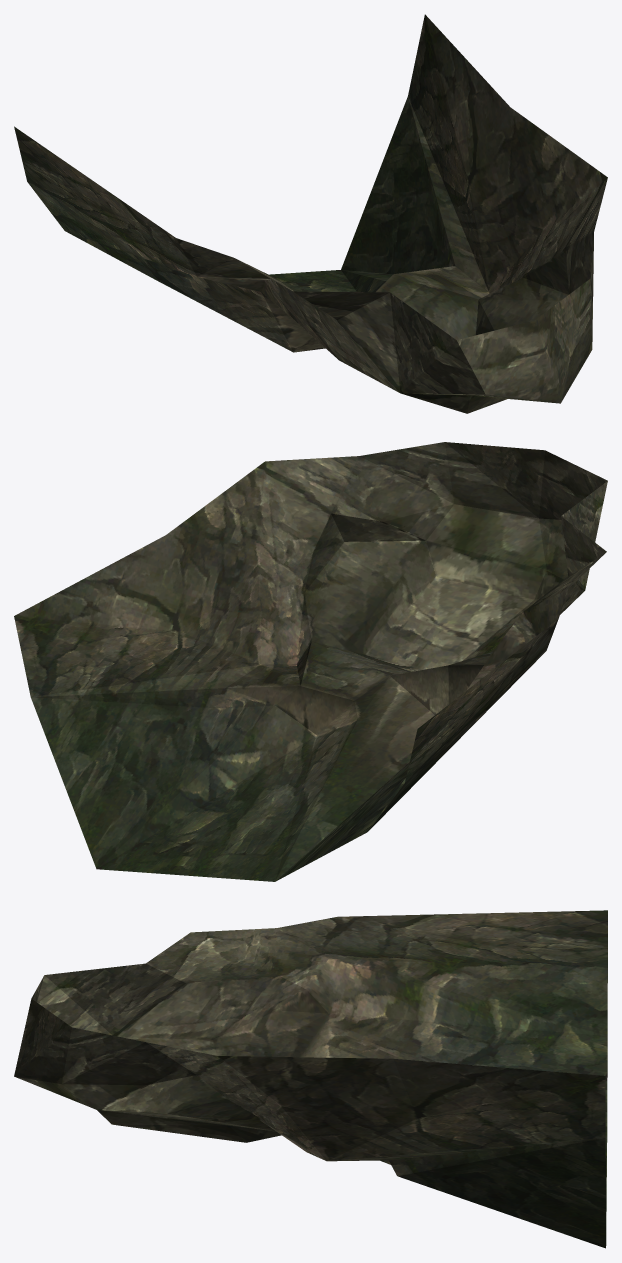
Rendered from taitan_fuben_01_shanbi_3.obj.
The picture shows the model from 3 angles, top to bottom: view 1: azimuth 30°, elevation 25°; view 2: azimuth 150°, elevation 25°; view 3: azimuth 270°, elevation 25°; orthographic projection. The views are drawn at different scales.
Visible parts, largest first — view 1: zhucheng_yewai_291_junshi_jz_01; view 2: zhucheng_yewai_291_junshi_jz_01; view 3: zhucheng_yewai_291_junshi_jz_01.
Part boxes in pixels (bbox=[...]): zhucheng_yewai_291_junshi_jz_01: bbox=[14, 14, 607, 413]; zhucheng_yewai_291_junshi_jz_01: bbox=[14, 442, 607, 881]; zhucheng_yewai_291_junshi_jz_01: bbox=[14, 910, 607, 1248].
Bounding box in the file's own units: 1768 × 993 × 2503.
1 material, 1 textured.
